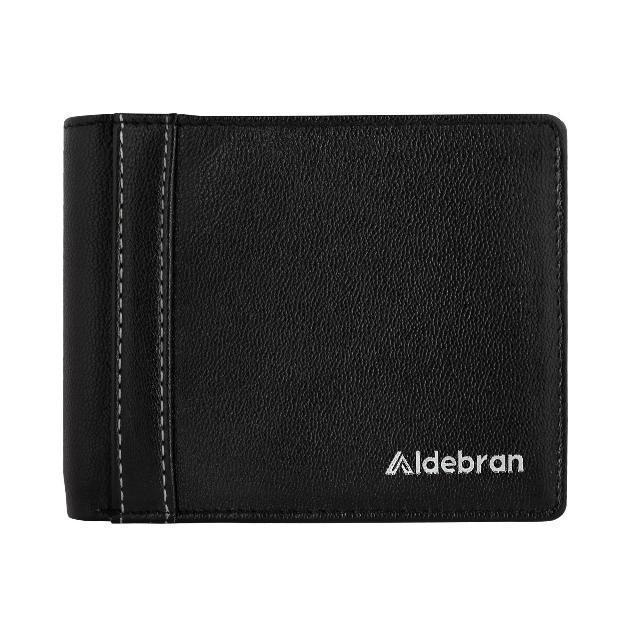wallet: (62, 111, 566, 521)
